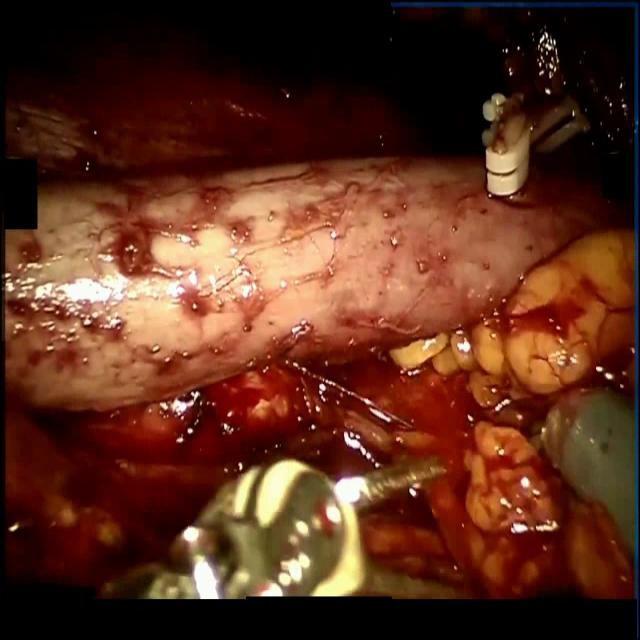surgical-area: (2, 0, 639, 602)
surgical-tool: (100, 450, 462, 602), (538, 385, 636, 564)
